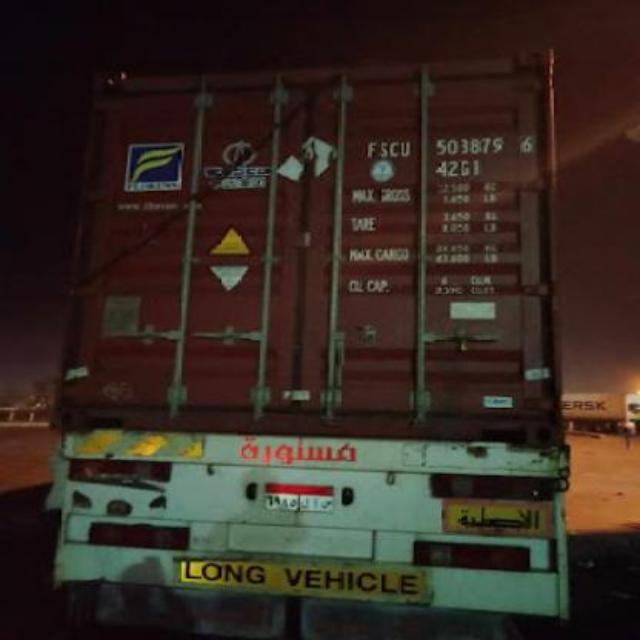0: (448, 138, 460, 156)
3: (460, 138, 470, 156)
5: (436, 138, 446, 158)
6: (522, 137, 534, 153)
7: (482, 136, 492, 154)
8: (470, 138, 482, 156)
9: (492, 135, 504, 155)
C: (388, 139, 400, 157)
F: (366, 141, 378, 159)
S: (380, 139, 390, 157)
U: (400, 142, 412, 156)
